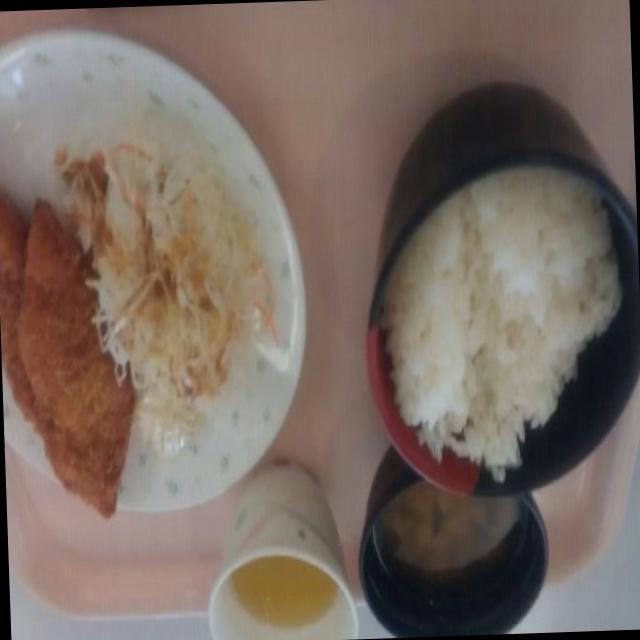Rice: (378, 195, 613, 472)
